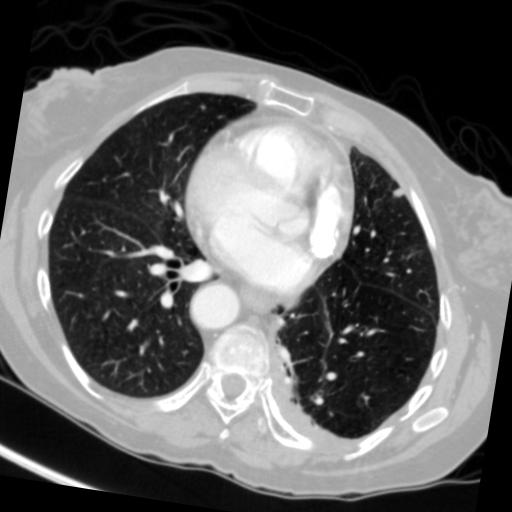nodule: (393, 185, 408, 200)
